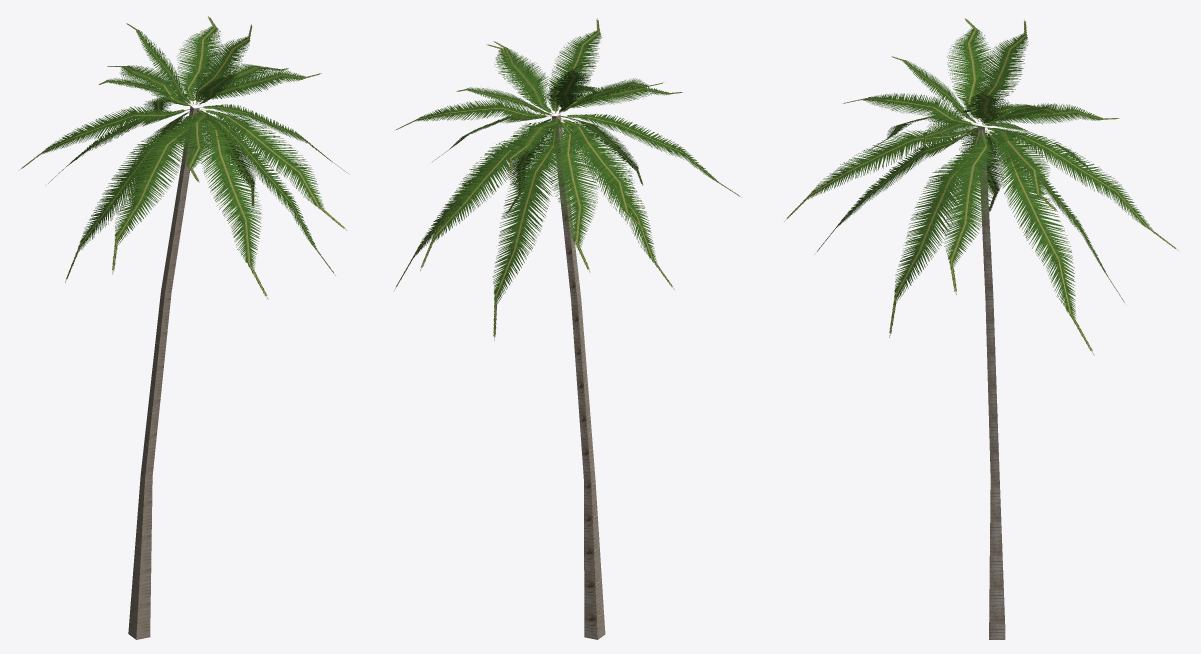
The model's file is palm_b_far.glb.
3 renders of one model, left to right at view 1: azimuth 30°, elevation 25°; view 2: azimuth 150°, elevation 25°; view 3: azimuth 270°, elevation 25°, orthographic. The views are drawn at different scales.
Visible parts, largest first — view 1: palm_b_far; view 2: palm_b_far; view 3: palm_b_far.
Boxes of the visible parts, x1=… form: palm_b_far: x1=18, y1=16, x2=349, y2=639; palm_b_far: x1=394, y1=18, x2=741, y2=639; palm_b_far: x1=784, y1=18, x2=1178, y2=639.
Bounding box in the file's own units: 8.28 × 16.18 × 9.74.
Materials: 2 (2 with a texture image).
